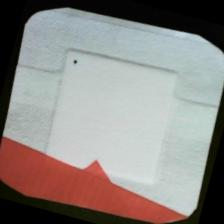Dressing: (1, 1, 224, 224)
F_Body: (66, 50, 97, 75)
Red_T: (1, 119, 208, 224)
